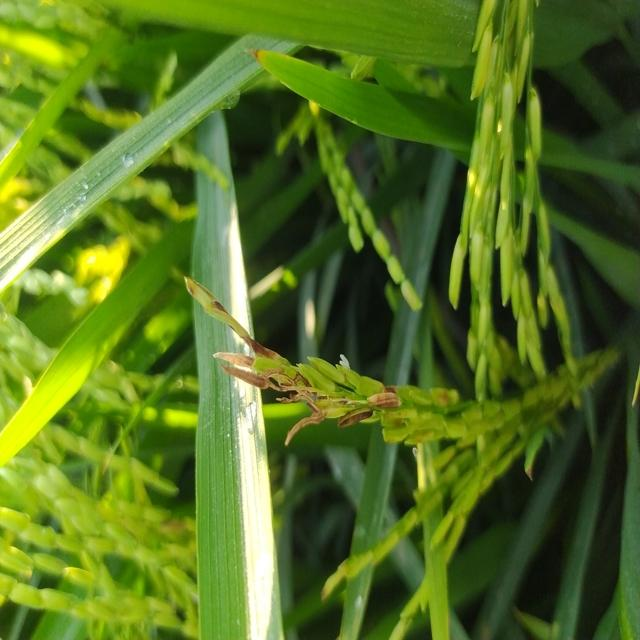Hawar Daun Bakteri: (240, 39, 319, 99)
